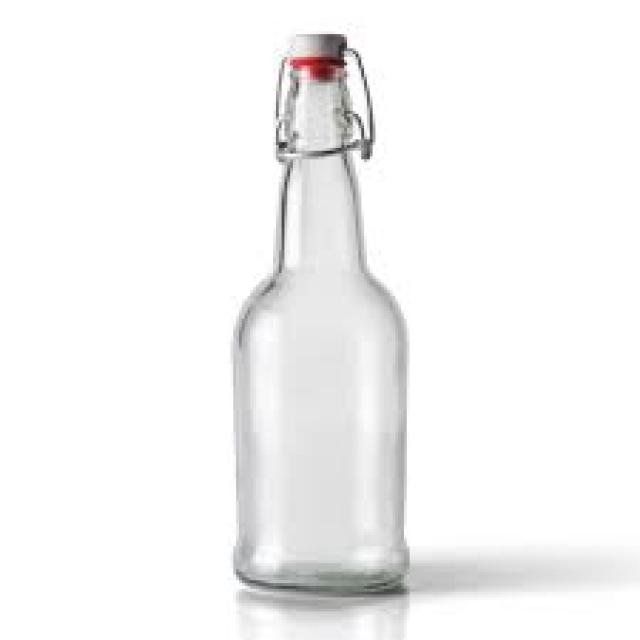Anorganik: (230, 62, 410, 588), (285, 31, 344, 54)
